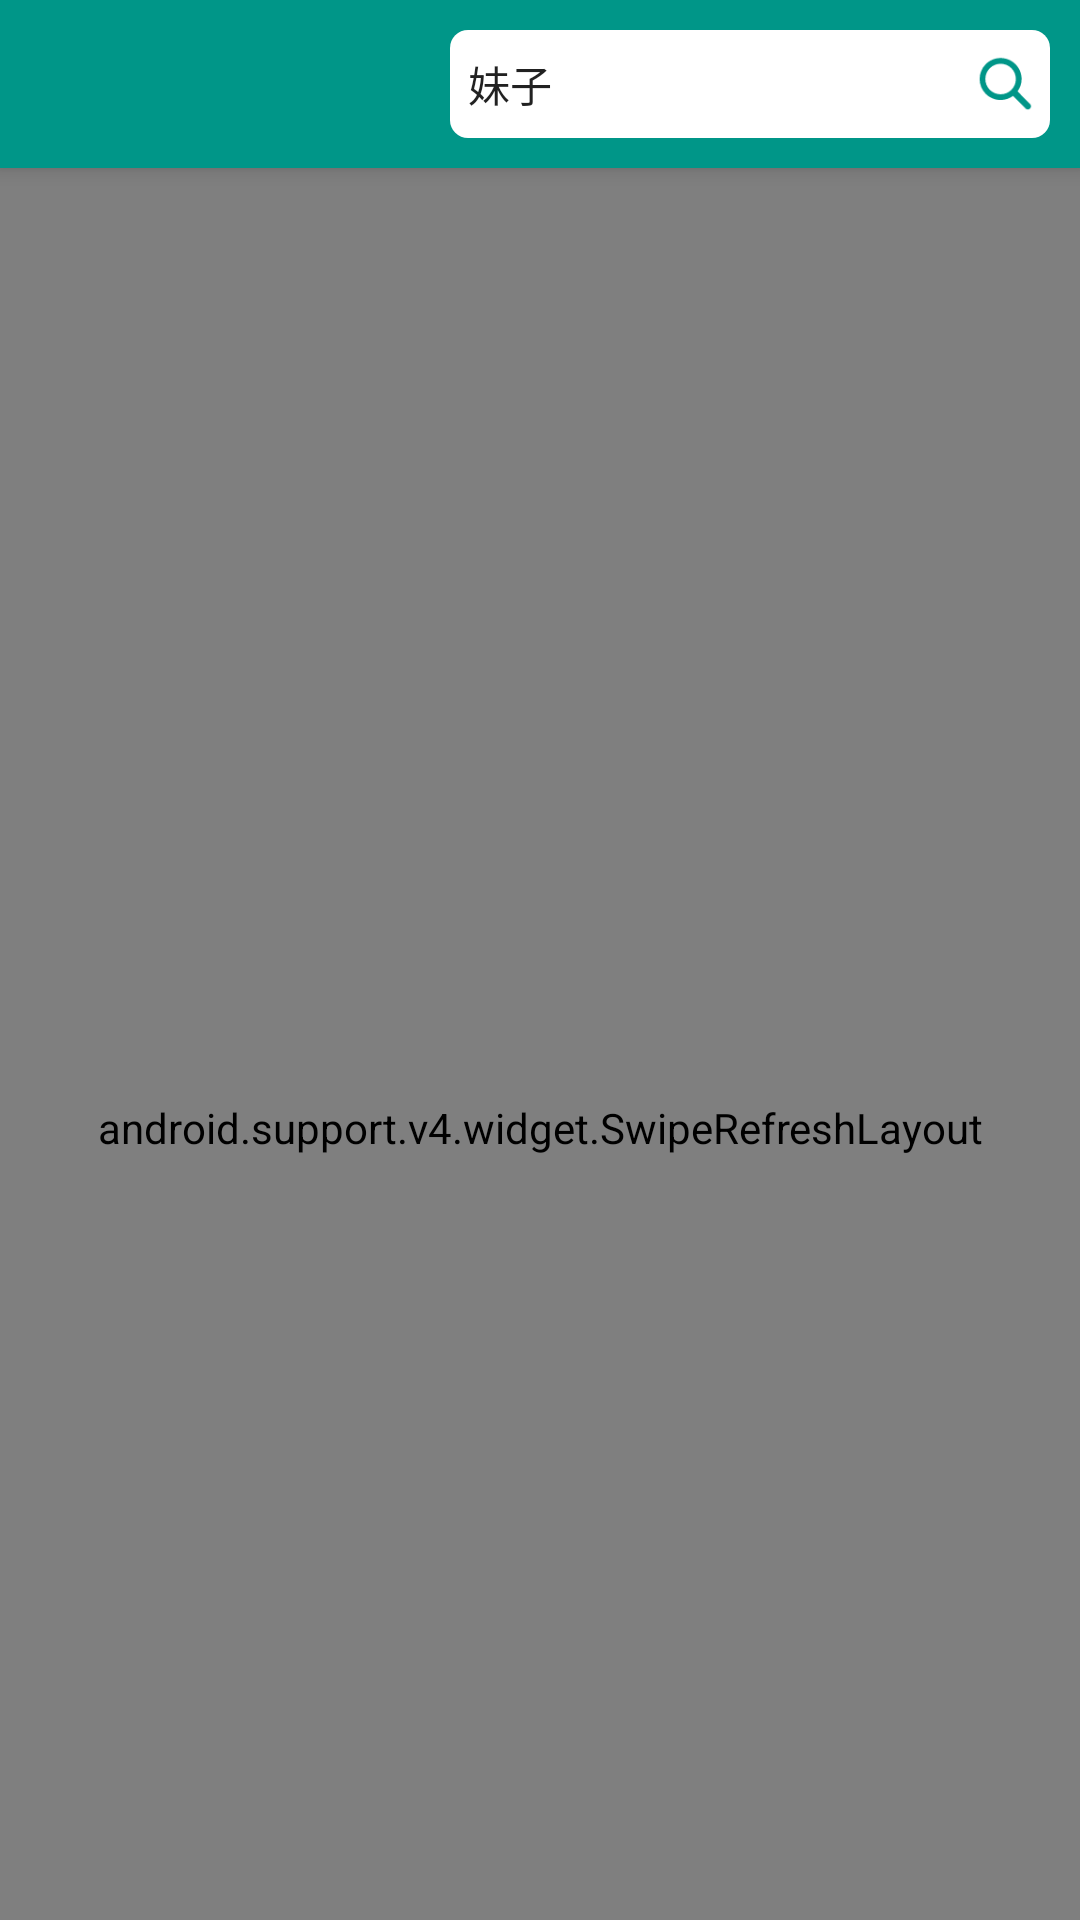

Named icons in this screenshot (1080×1920) and their centers, (x=x, y=y):
search: (x=1005, y=83)
